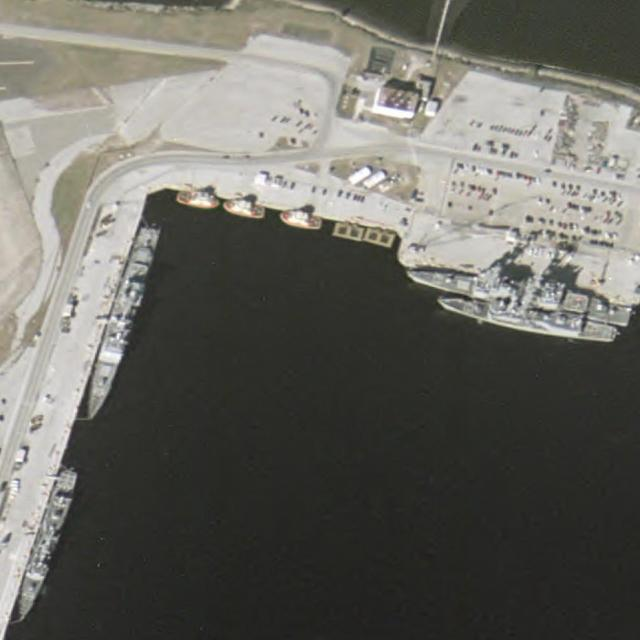Cruiser: (77, 224, 162, 422), (404, 260, 628, 326)
Frigate: (435, 289, 617, 348), (12, 468, 79, 625)
Hovercraft: (277, 206, 323, 233), (221, 195, 268, 220), (175, 189, 220, 210)
